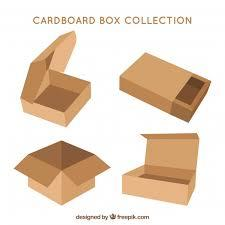Cardboard: (11, 35, 99, 137), (112, 43, 210, 125), (112, 128, 205, 209), (18, 136, 113, 201)
